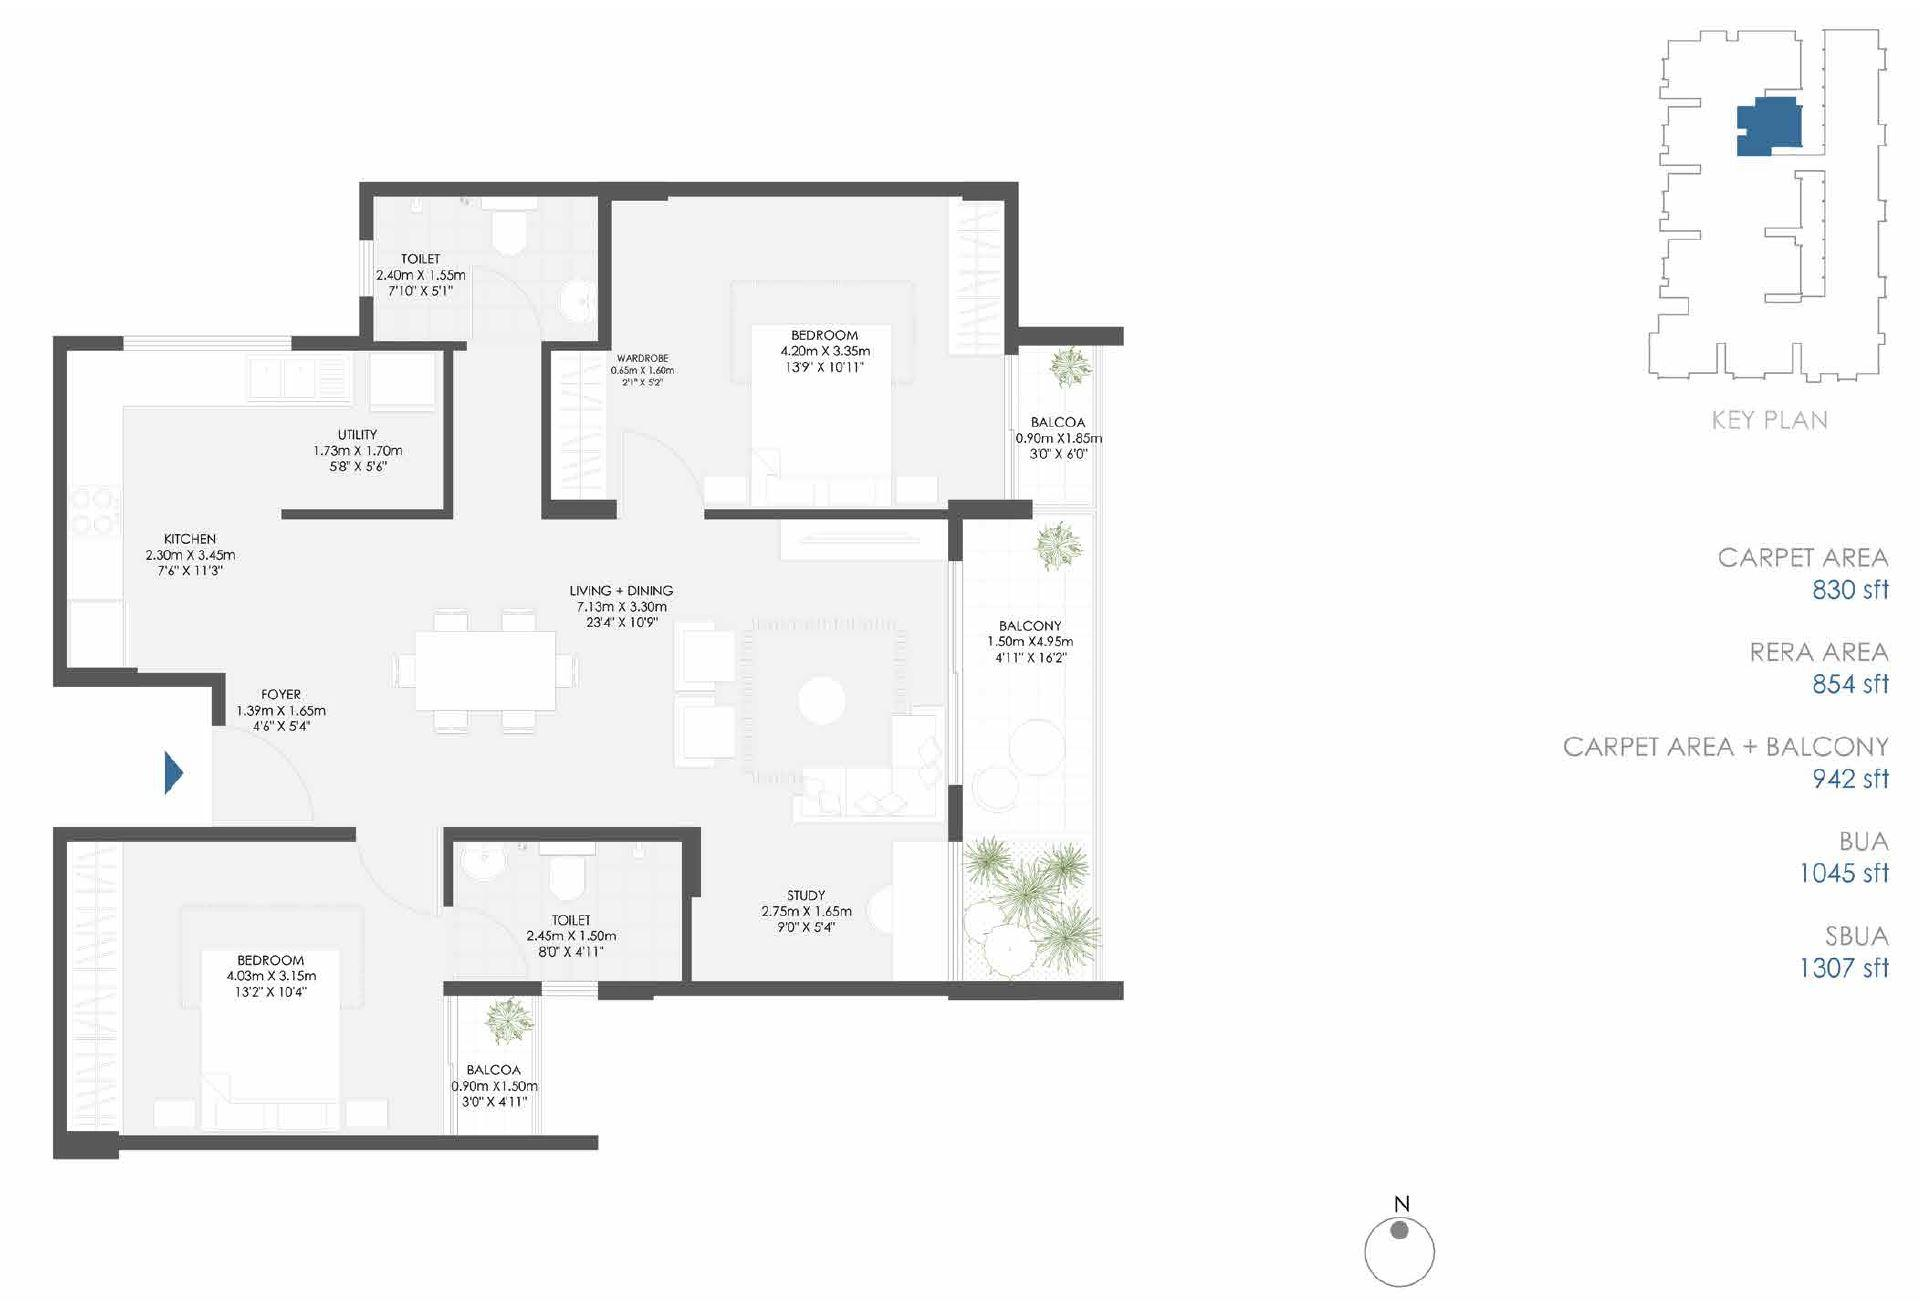Balcony: (960, 521, 1091, 973)
Bed: (197, 942, 349, 1138), (754, 327, 897, 508)
Bedroom: (614, 193, 1007, 508), (83, 842, 444, 1133)
Dining Room: (360, 522, 657, 818)
Dining table: (376, 598, 594, 741)
Foyer: (231, 651, 378, 826)
Kitchen: (69, 349, 273, 675)
Living Room: (657, 519, 941, 823)
Sofa: (783, 769, 937, 824), (887, 705, 941, 820), (671, 616, 737, 690), (673, 700, 738, 764)
Wardrobe: (61, 845, 125, 1135), (941, 194, 1007, 352), (551, 350, 611, 500)
balcoa: (1020, 344, 1099, 506), (458, 995, 540, 1132)
commode: (492, 213, 541, 263), (546, 855, 591, 904)
door: (210, 726, 324, 823), (619, 424, 708, 518), (359, 829, 449, 916), (446, 904, 534, 985), (464, 264, 547, 341)
fridge: (69, 601, 125, 670)
kitchen-slab: (67, 353, 359, 408), (64, 350, 123, 601)
sink: (247, 346, 349, 400), (460, 845, 515, 884), (559, 274, 592, 327)
stove: (71, 490, 121, 538)
study: (696, 833, 945, 980)
toilet: (369, 195, 600, 340), (449, 842, 683, 980)
tv: (788, 527, 932, 553)
utility: (273, 350, 444, 512)
washing-machine: (368, 350, 442, 413)
